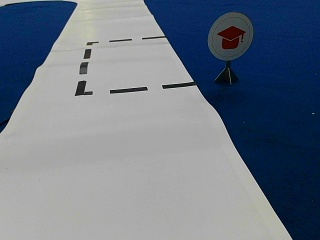school: (208, 13, 252, 59)
